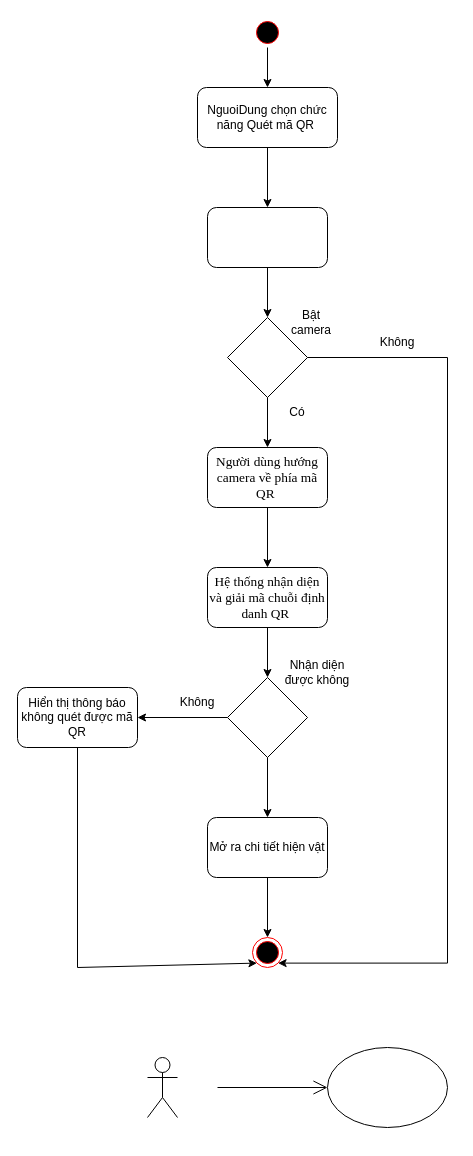
Image size: 473x1156. Some labels were removed from this diagram. The centre of each missing label's shape, as x and y in pixels:
Hệ Thống thông báo kích hoạt camera và hiển thị khung quét: pixel 267 237
NguoiDung: pixel 162 1087
QuetMaQR: pixel 387 1087
